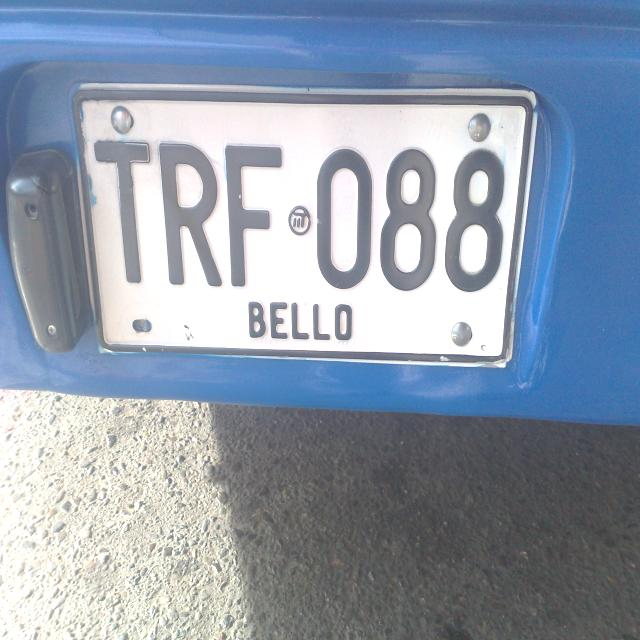placa: (63, 67, 540, 375)
